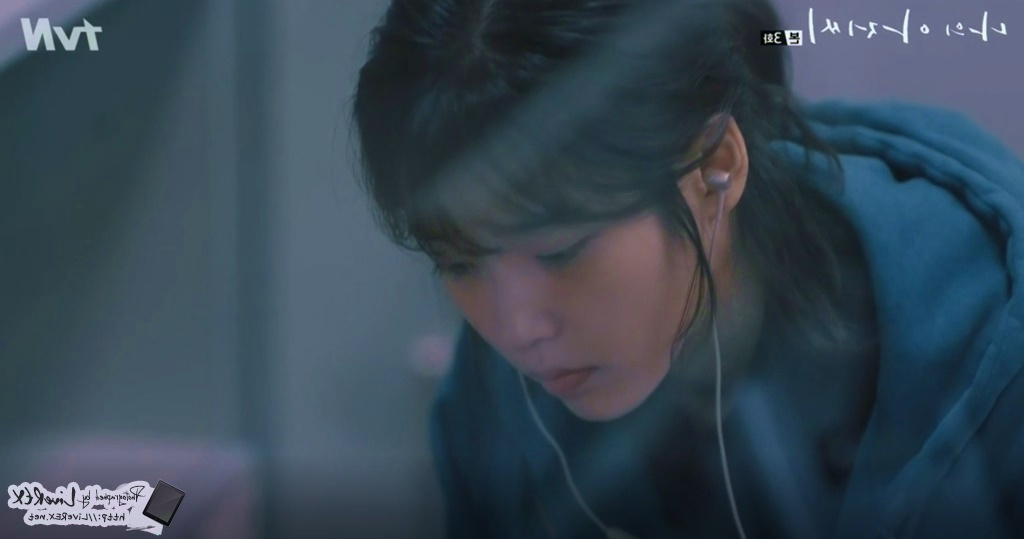earphone: (688, 114, 750, 221)
